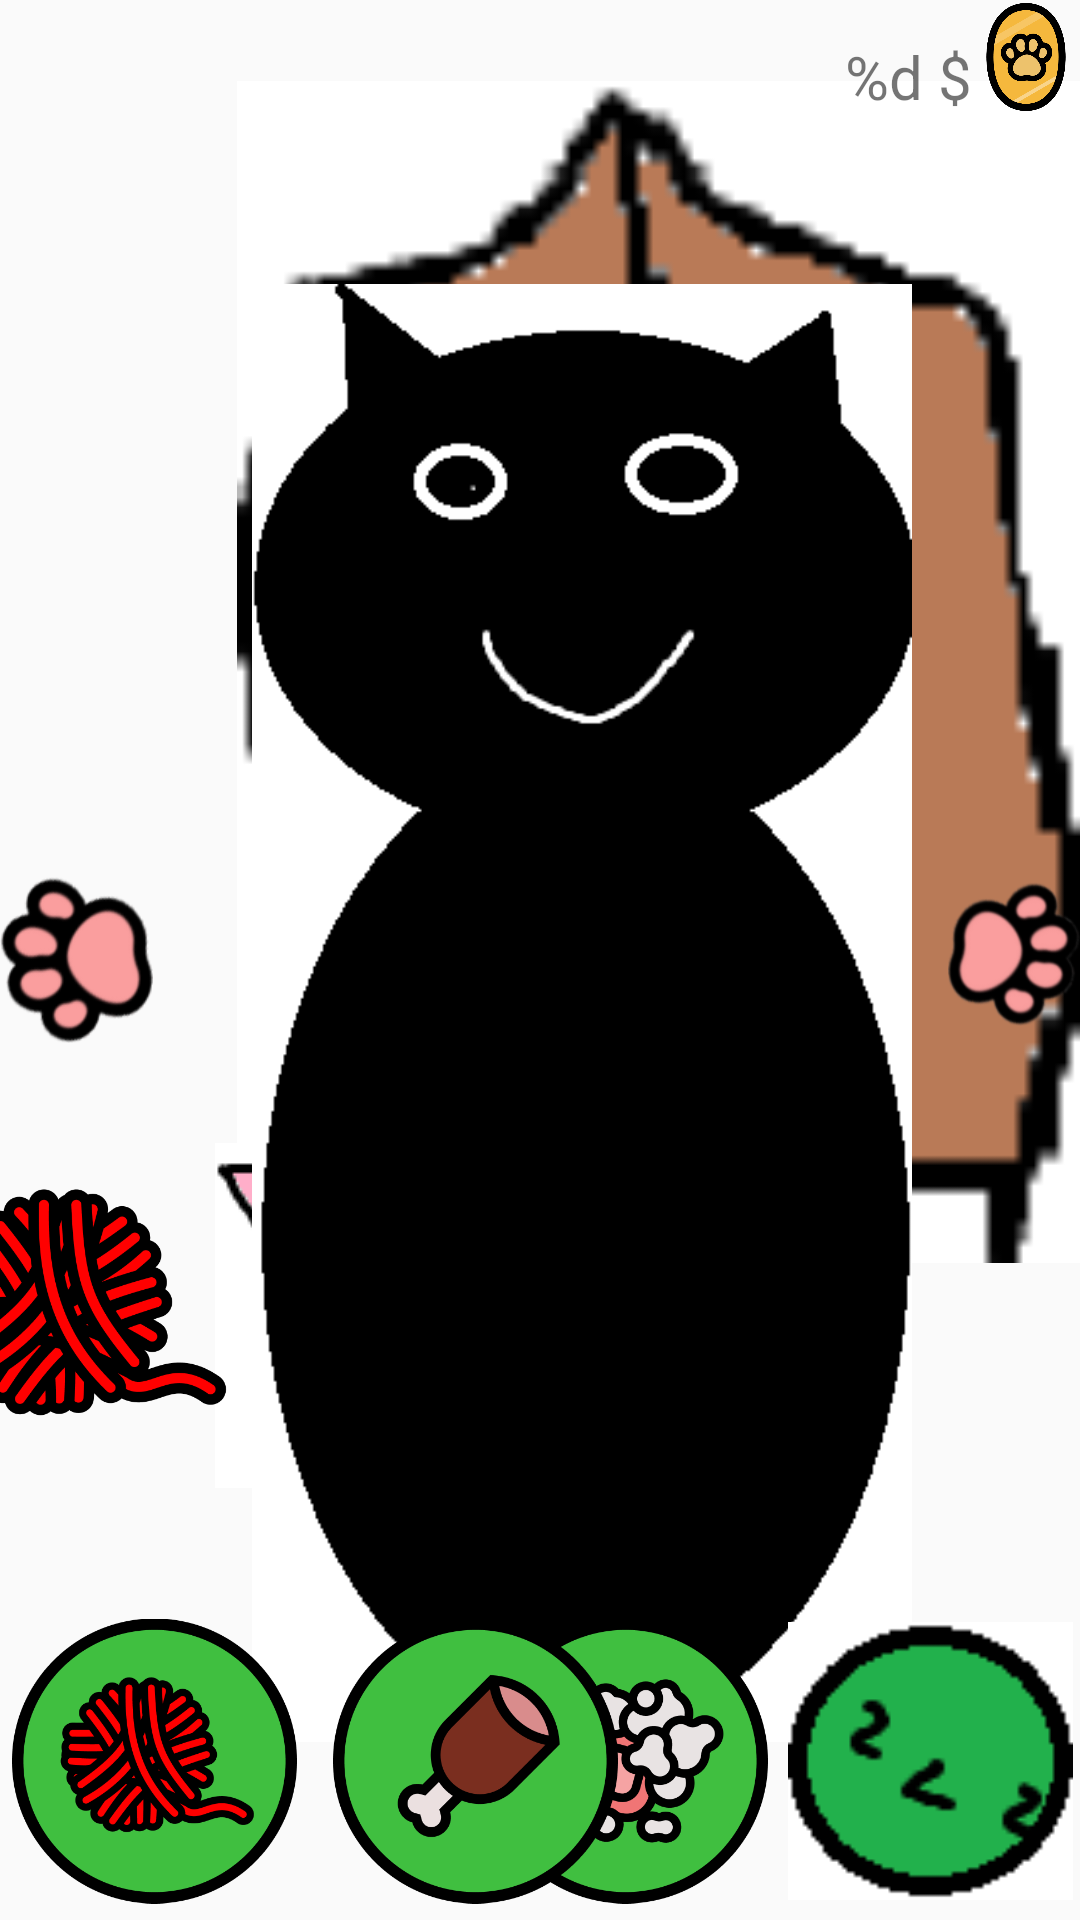

Icon click points for this 1080×1920 phone screenshot, format (x,y):
coin: (1026,57)
hungry full: (475,1761)
mood full: (154,1761)
sleep full: (930,1761)
